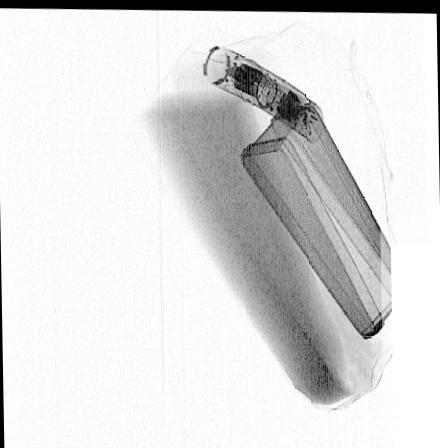Baton: (201, 44, 325, 143)
